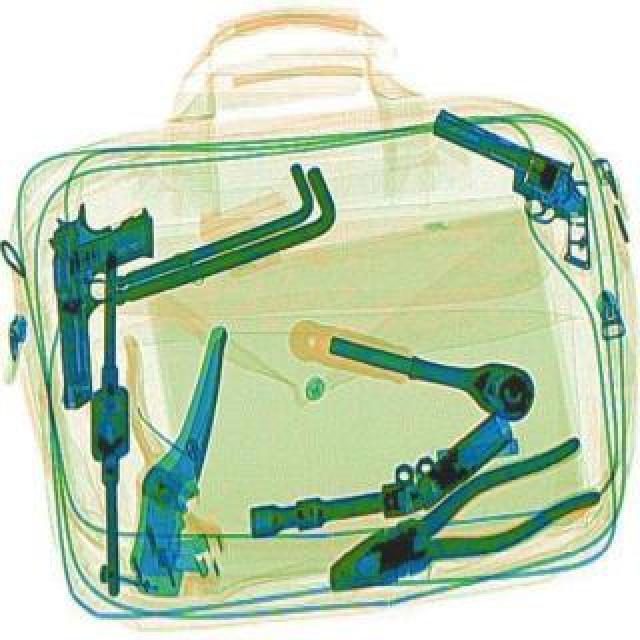gun: (400, 108, 636, 276), (48, 200, 172, 414)
wrench: (314, 440, 614, 620)
